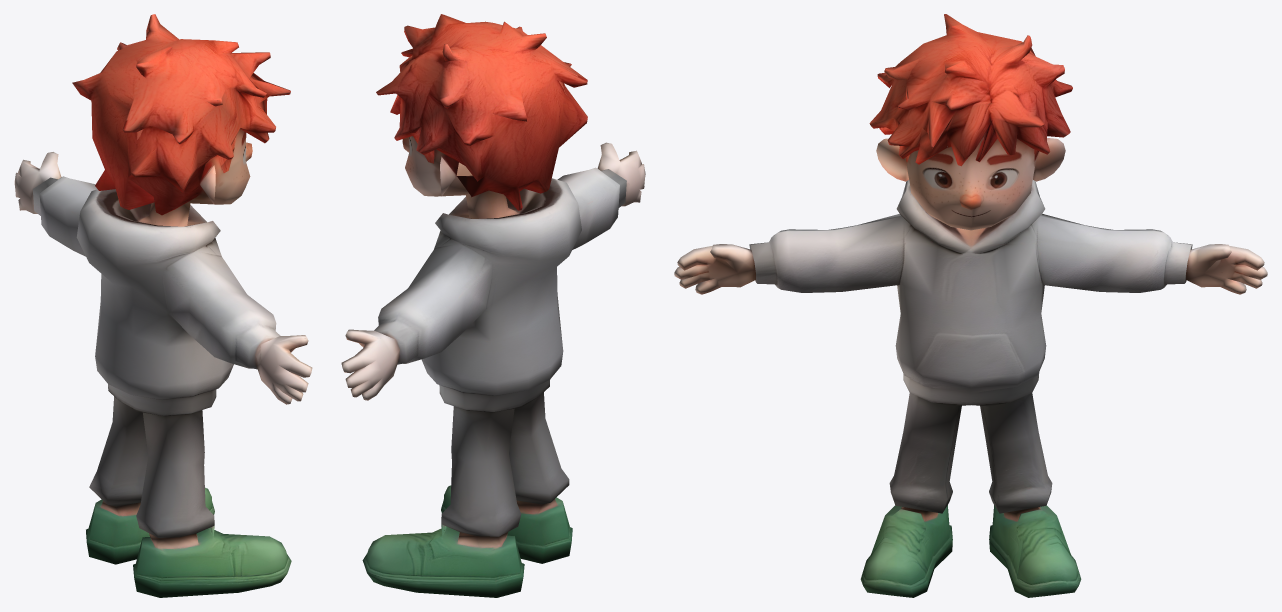
The picture shows the model from 3 angles, left to right: view 1: azimuth 30°, elevation 25°; view 2: azimuth 150°, elevation 25°; view 3: azimuth 270°, elevation 25°; orthographic projection. The views are drawn at different scales.
Parts seen in each view (by area): view 1: tripo_node_0e46bd11-5813-4b38-a4af-543c4ebba61e; view 2: tripo_node_0e46bd11-5813-4b38-a4af-543c4ebba61e; view 3: tripo_node_0e46bd11-5813-4b38-a4af-543c4ebba61e.
Boxes of the visible parts, x1,y1,x2,y2 form: tripo_node_0e46bd11-5813-4b38-a4af-543c4ebba61e: (14, 14, 312, 597); tripo_node_0e46bd11-5813-4b38-a4af-543c4ebba61e: (341, 14, 645, 597); tripo_node_0e46bd11-5813-4b38-a4af-543c4ebba61e: (674, 14, 1267, 597).
Bounding box in the file's own units: 0.3628 × 0.9907 × 0.9995.
1 material, 1 textured.
